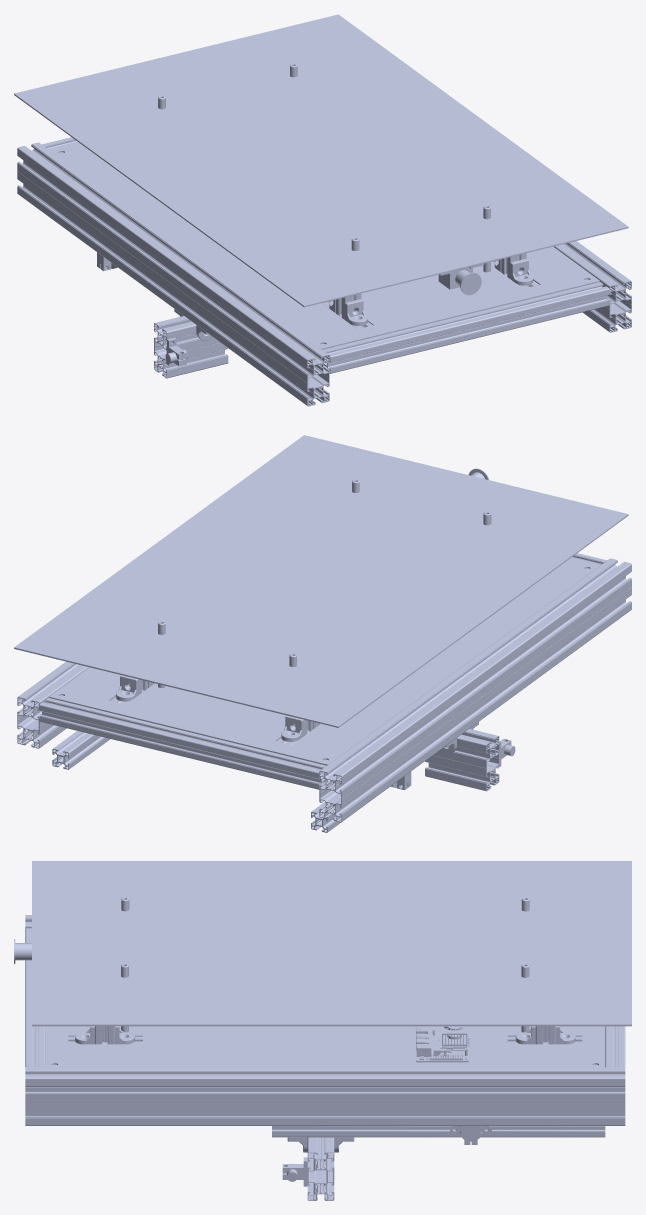
The picture shows the model from 3 angles, top to bottom: view 1: azimuth 30°, elevation 25°; view 2: azimuth 150°, elevation 25°; view 3: azimuth 270°, elevation 25°; orthographic projection. The views are drawn at different scales.
Visible parts, largest first — view 1: Body1 (×7); view 2: Body1 (×7); view 3: Body1 (×7), nvidie_jetson_xavier.STEP.STEP.STEP.
Part boxes in pixels (x1=…): Body1 (×7): x1=14, y1=14, x2=631, y2=406; Body1 (×7): x1=14, y1=435, x2=631, y2=822; Body1 (×7): x1=25, y1=861, x2=631, y2=1200; nvidie_jetson_xavier.STEP.STEP.STEP: x1=416, y1=1026, x2=469, y2=1062.
Size of the model in its own units: 0.617 by 0.927 by 0.3082.
